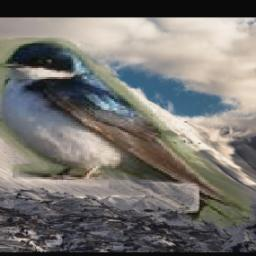Swallow: (0, 39, 251, 230)
